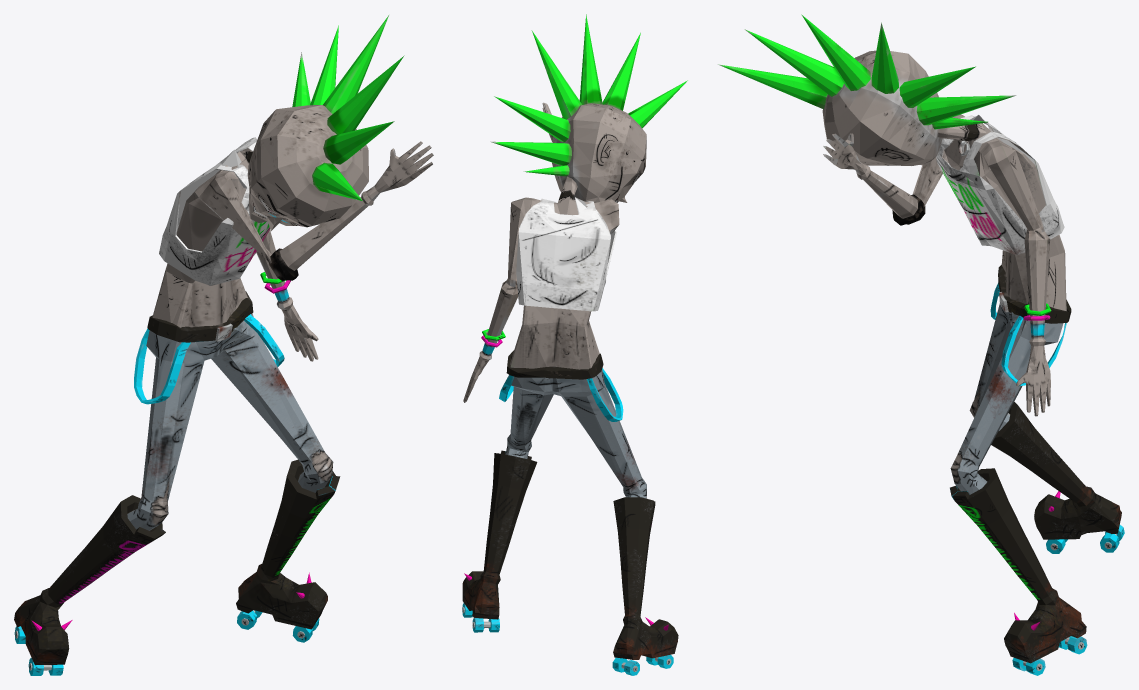
File: punkAnimation_000049.obj
The picture shows the model from 3 angles, left to right: view 1: azimuth 30°, elevation 25°; view 2: azimuth 150°, elevation 25°; view 3: azimuth 270°, elevation 25°; orthographic projection. The views are drawn at different scales.
Visible parts, largest first — view 1: Cube.004_Cube.003; view 2: Cube.004_Cube.003; view 3: Cube.004_Cube.003.
Part boxes in pixels (left/top/right/bottom): Cube.004_Cube.003: left=14, top=15, right=433, bottom=675; Cube.004_Cube.003: left=462, top=14, right=687, bottom=675; Cube.004_Cube.003: left=718, top=14, right=1124, bottom=675.
Size of the model in its own units: 2.78 by 6.37 by 3.6.
